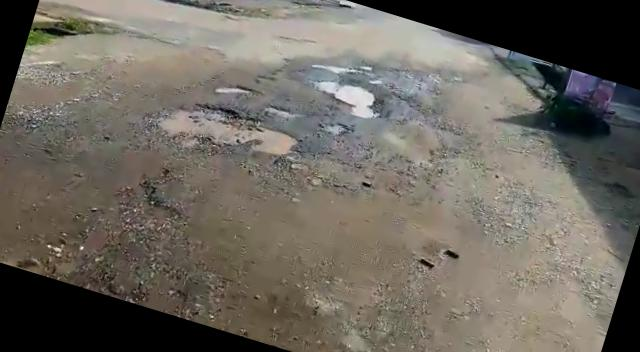pothole: (137, 83, 307, 178), (304, 73, 387, 122), (214, 78, 259, 106), (262, 100, 298, 120)
